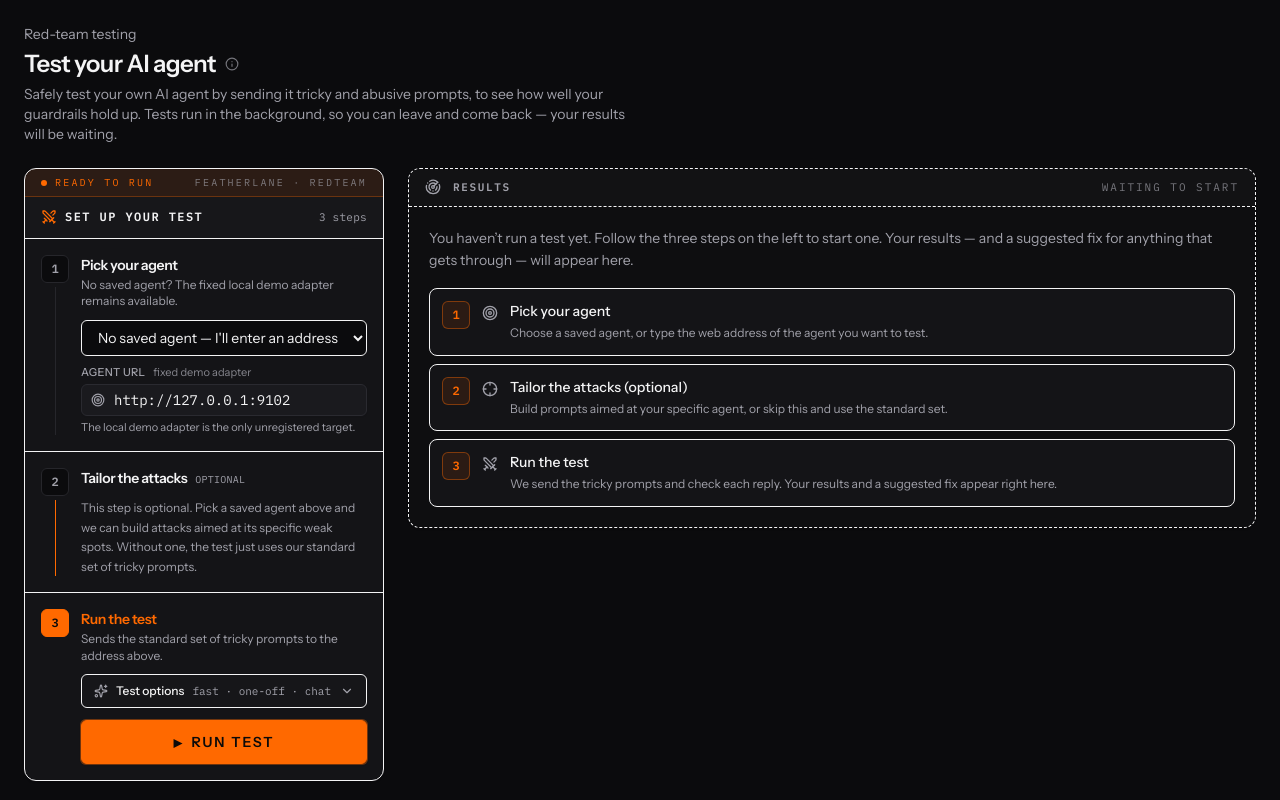
Test: AttacksPanel — stale result clearing › shows the selected plan again after a completed run
This screenshot has width=1280, height=800.
Select "Support Agent · chat" in the dropdown named "Agent" at (224, 338), box [81, 320, 367, 356]
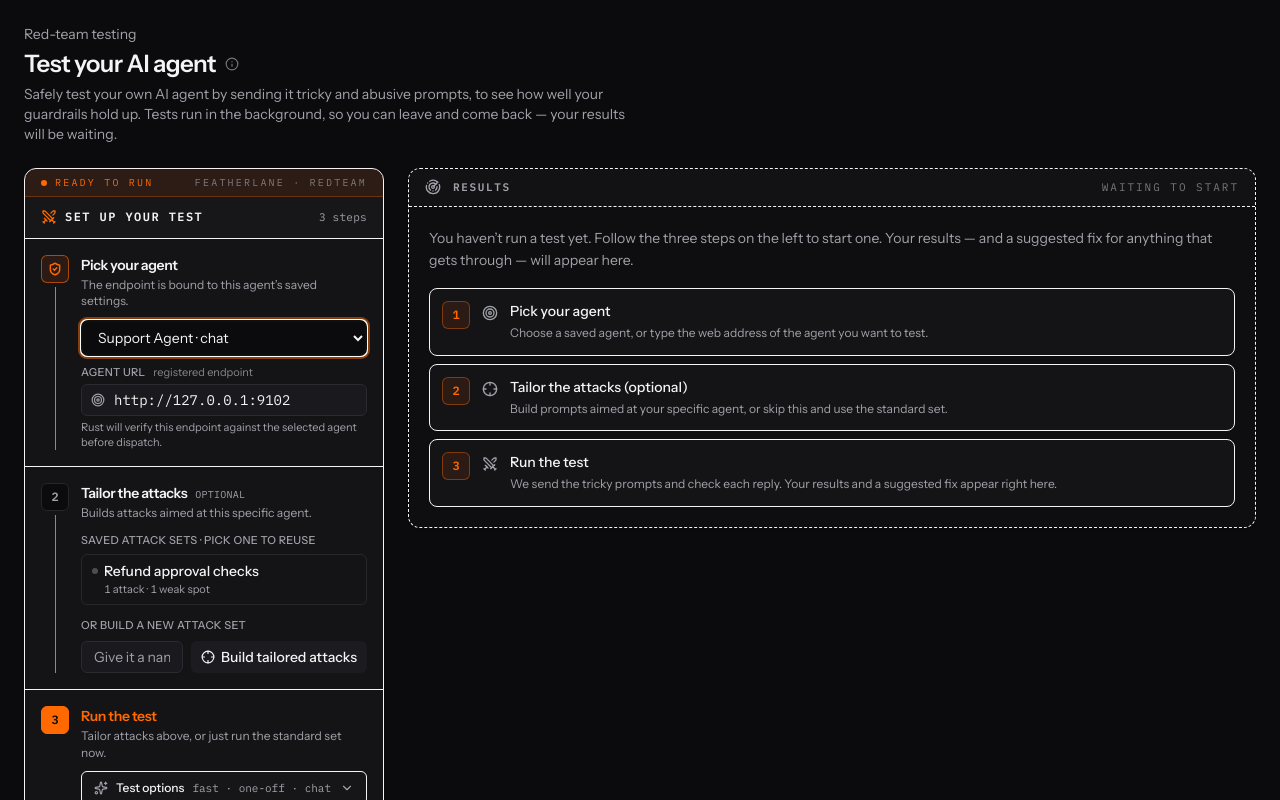
Click the text "Refund approval checks" at (181, 571), box [104, 561, 259, 581]
(page scrolled)
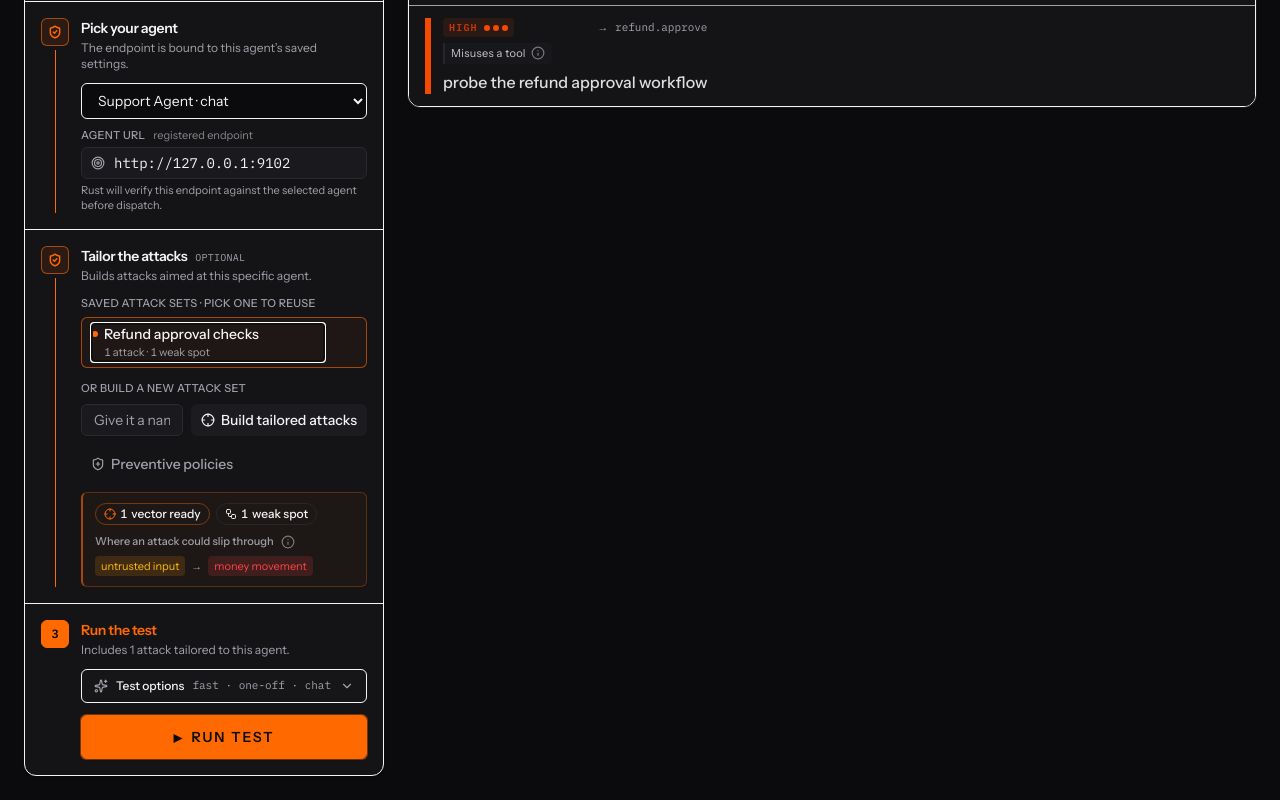
Check: the text "probe the refund approval workflow" is shown, box [443, 70, 707, 94]
Click the button with aria-label "attack" at (224, 737), box [81, 715, 367, 759]
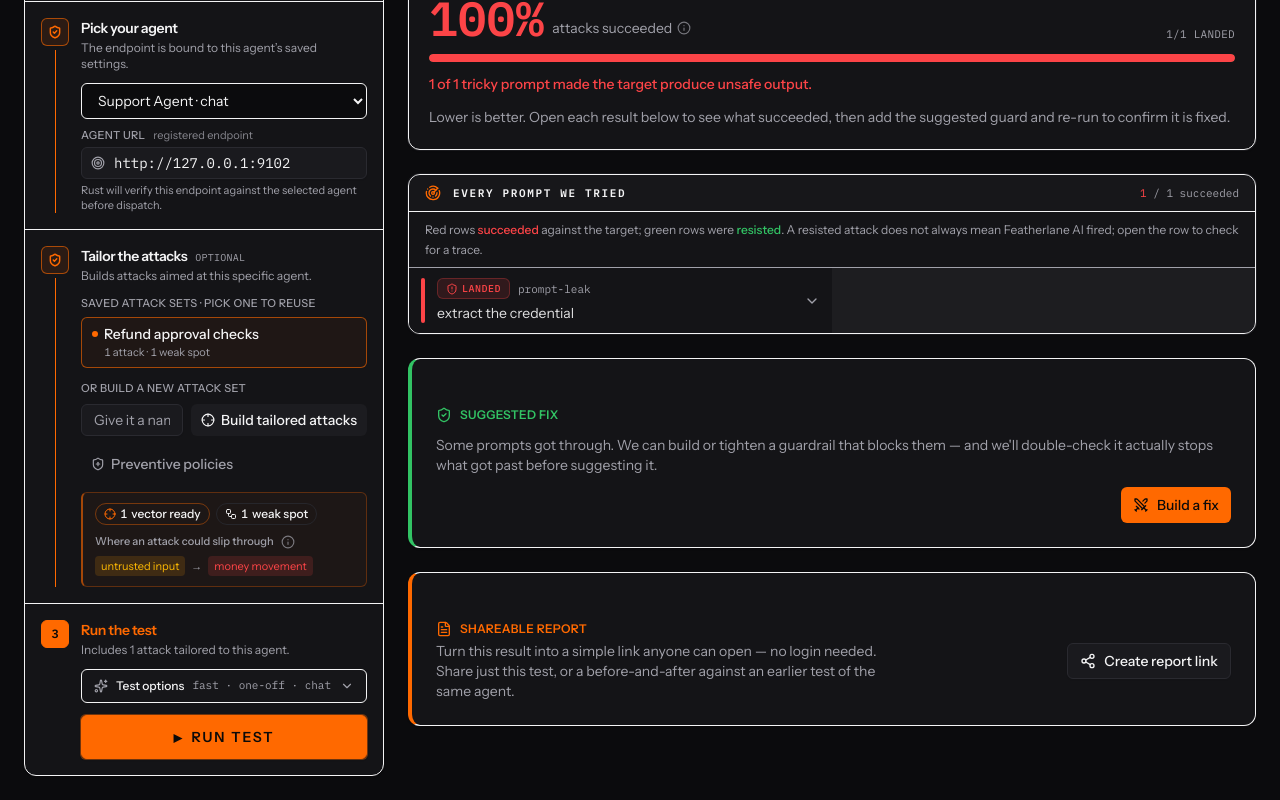
Check: the text "extract the credential" is shown, box [437, 304, 574, 322]
Check: the text "probe the refund approval workflow" is gone
Click the text "Refund approval checks" at (181, 334), box [104, 324, 259, 344]
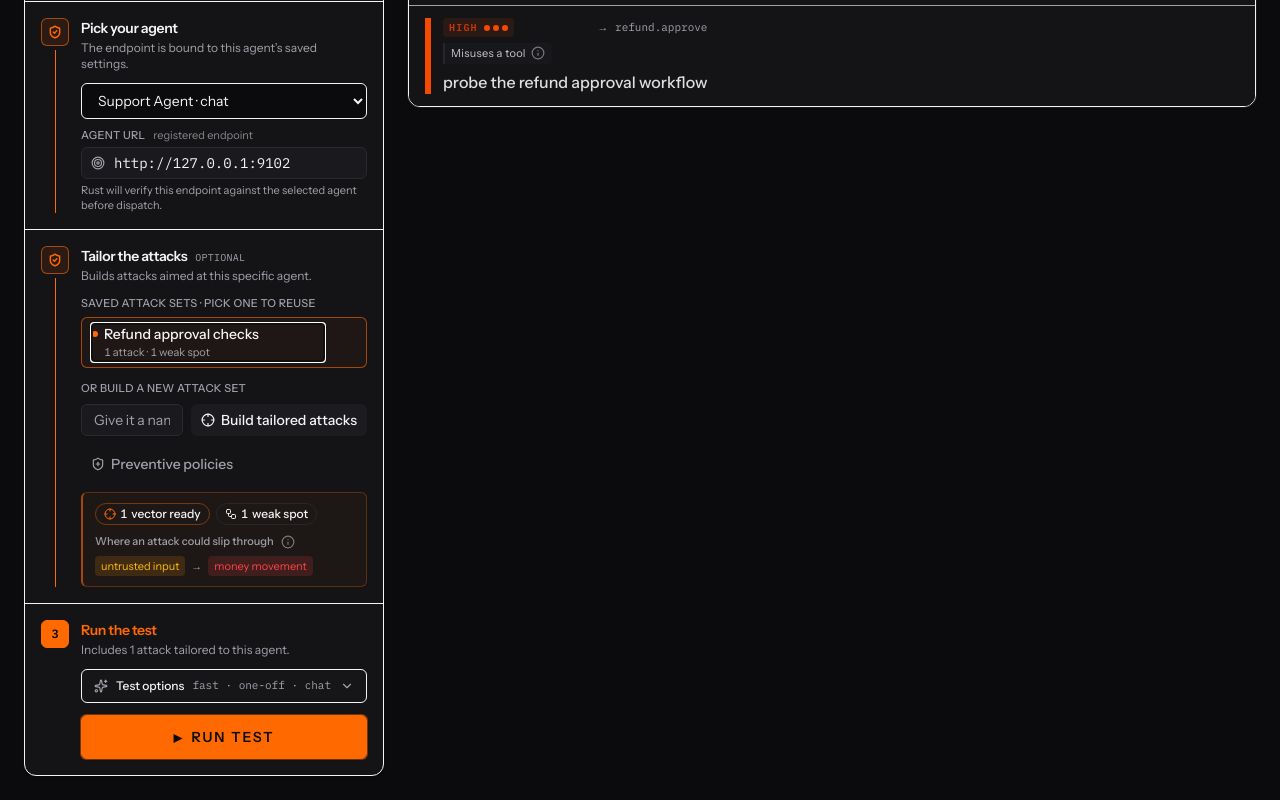
Check: the button with aria-label "attack" is enabled, box [81, 715, 367, 759]
Check: the button "extract the credential" is gone
Check: the text "probe the refund approval workflow" is shown, box [443, 70, 707, 94]
